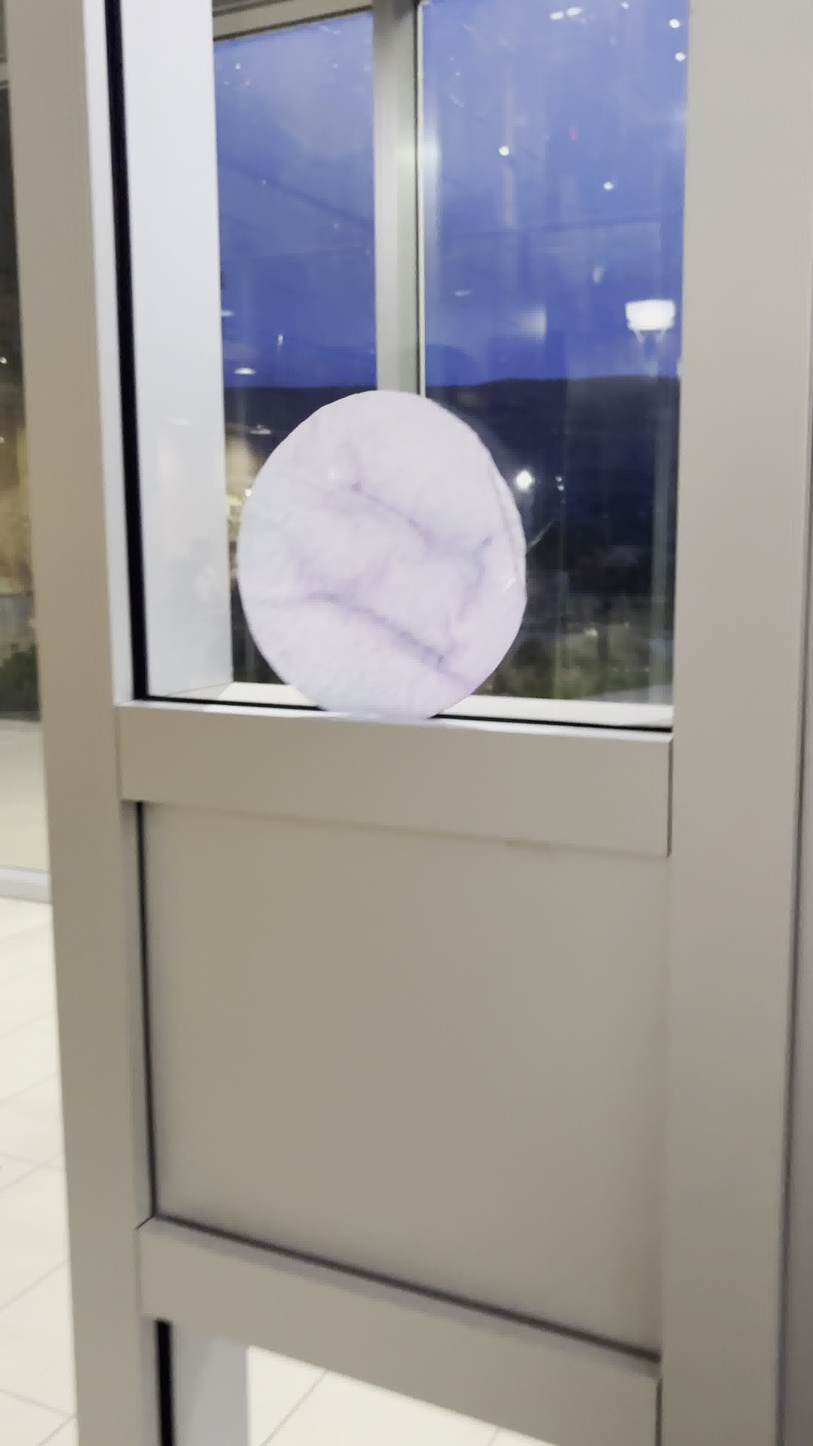Target: (235, 385, 528, 726)
